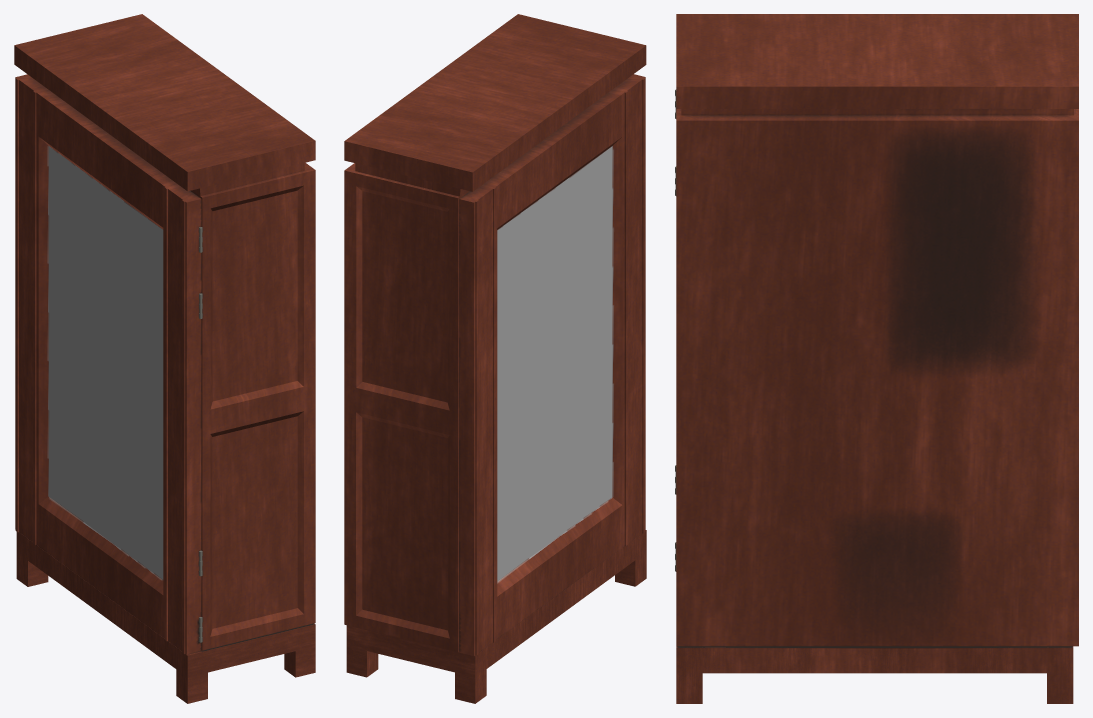
Rendered from SM_Dressing_Room.fbx.
3 views of the same model, side by side, from view 1: azimuth 30°, elevation 25°; view 2: azimuth 150°, elevation 25°; view 3: azimuth 270°, elevation 25° (orthographic). The views are drawn at different scales.
Parts seen in each view (by area): view 1: SM_Dressing_Room; view 2: SM_Dressing_Room; view 3: SM_Dressing_Room.
Boxes of the visible parts, x1,y1,x2,y2 form: SM_Dressing_Room: (14, 14, 315, 703); SM_Dressing_Room: (344, 14, 646, 703); SM_Dressing_Room: (675, 14, 1078, 703).
Bounding box in the file's own units: 60.19 × 140 × 237.
Materials: 1 (1 with a texture image).
